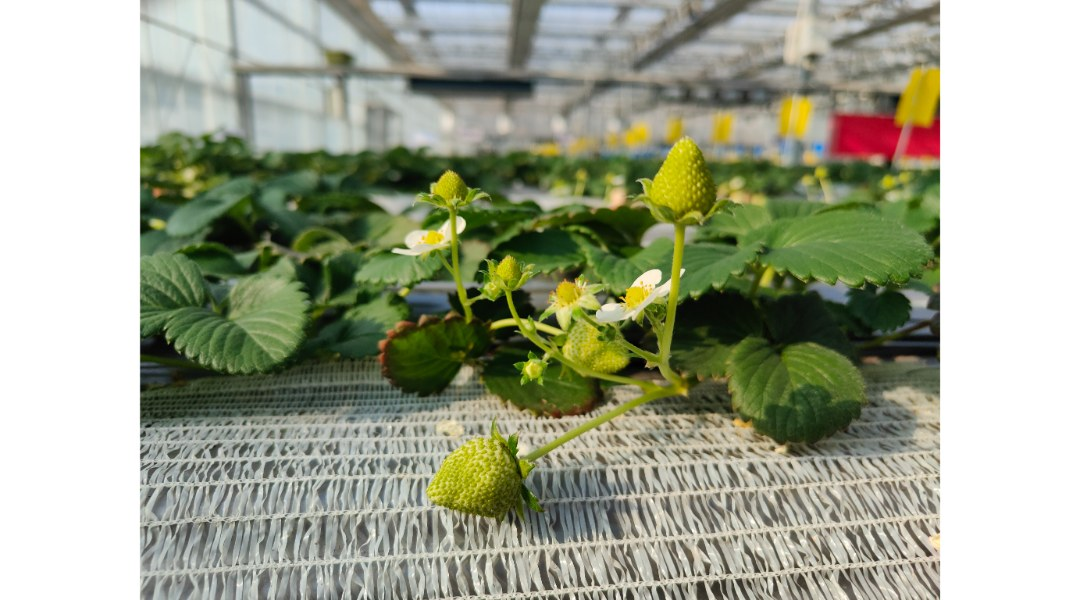berry: (413, 428, 534, 528), (633, 123, 727, 235), (558, 314, 640, 386), (405, 162, 497, 211), (544, 270, 598, 322), (479, 248, 528, 295)
flower: (382, 201, 485, 261), (609, 261, 677, 316)
strain: (514, 391, 670, 468), (663, 223, 691, 364), (485, 307, 562, 338), (446, 210, 462, 287)
